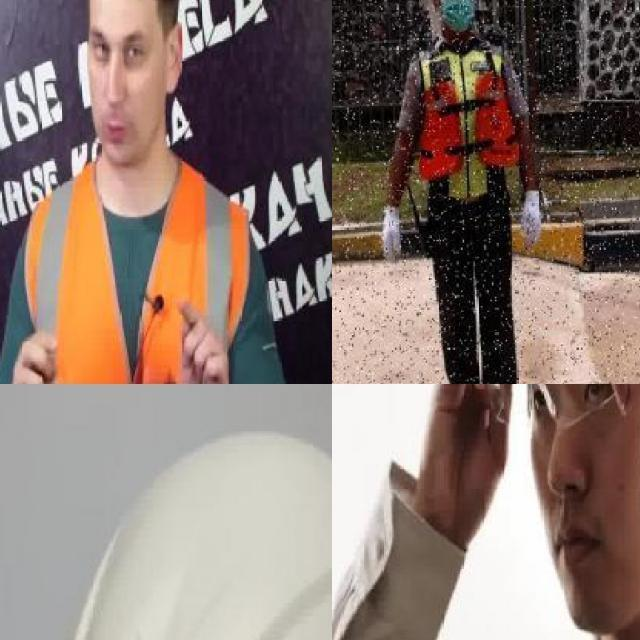apron: (516, 182, 548, 250), (377, 204, 405, 266)
